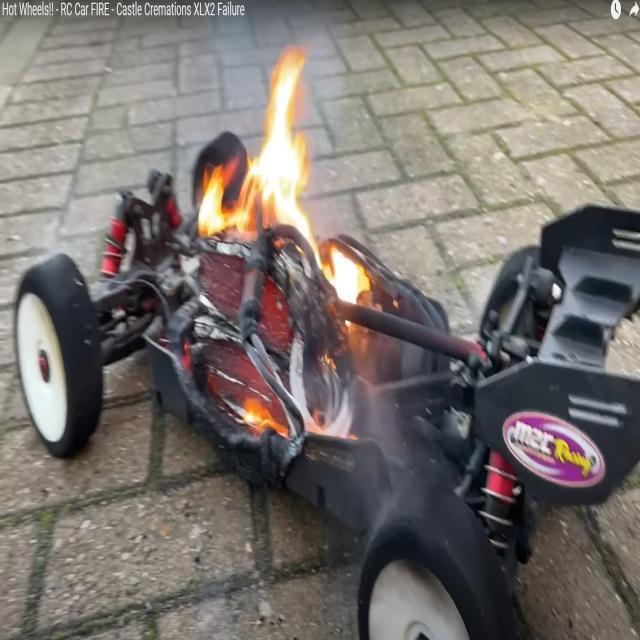Fire: (198, 34, 368, 439)
